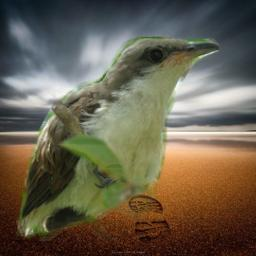Cuckoo: (15, 35, 219, 241)
